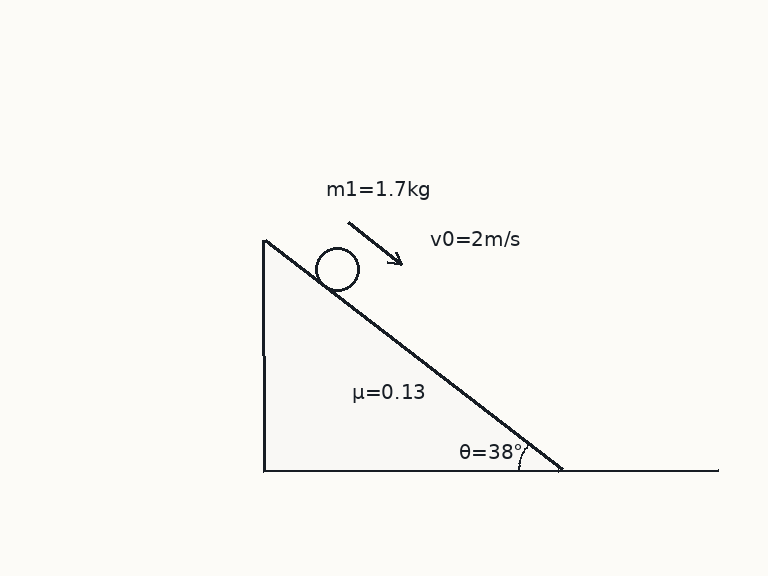ball: (313, 245, 361, 293)
ramp: (262, 237, 561, 472)
